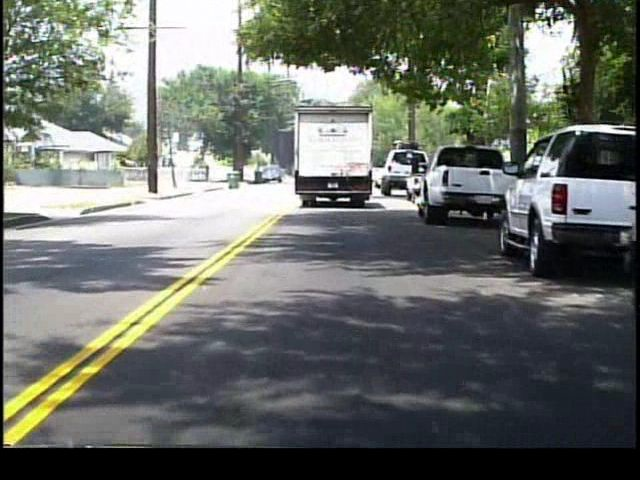person: (204, 162, 213, 184)
